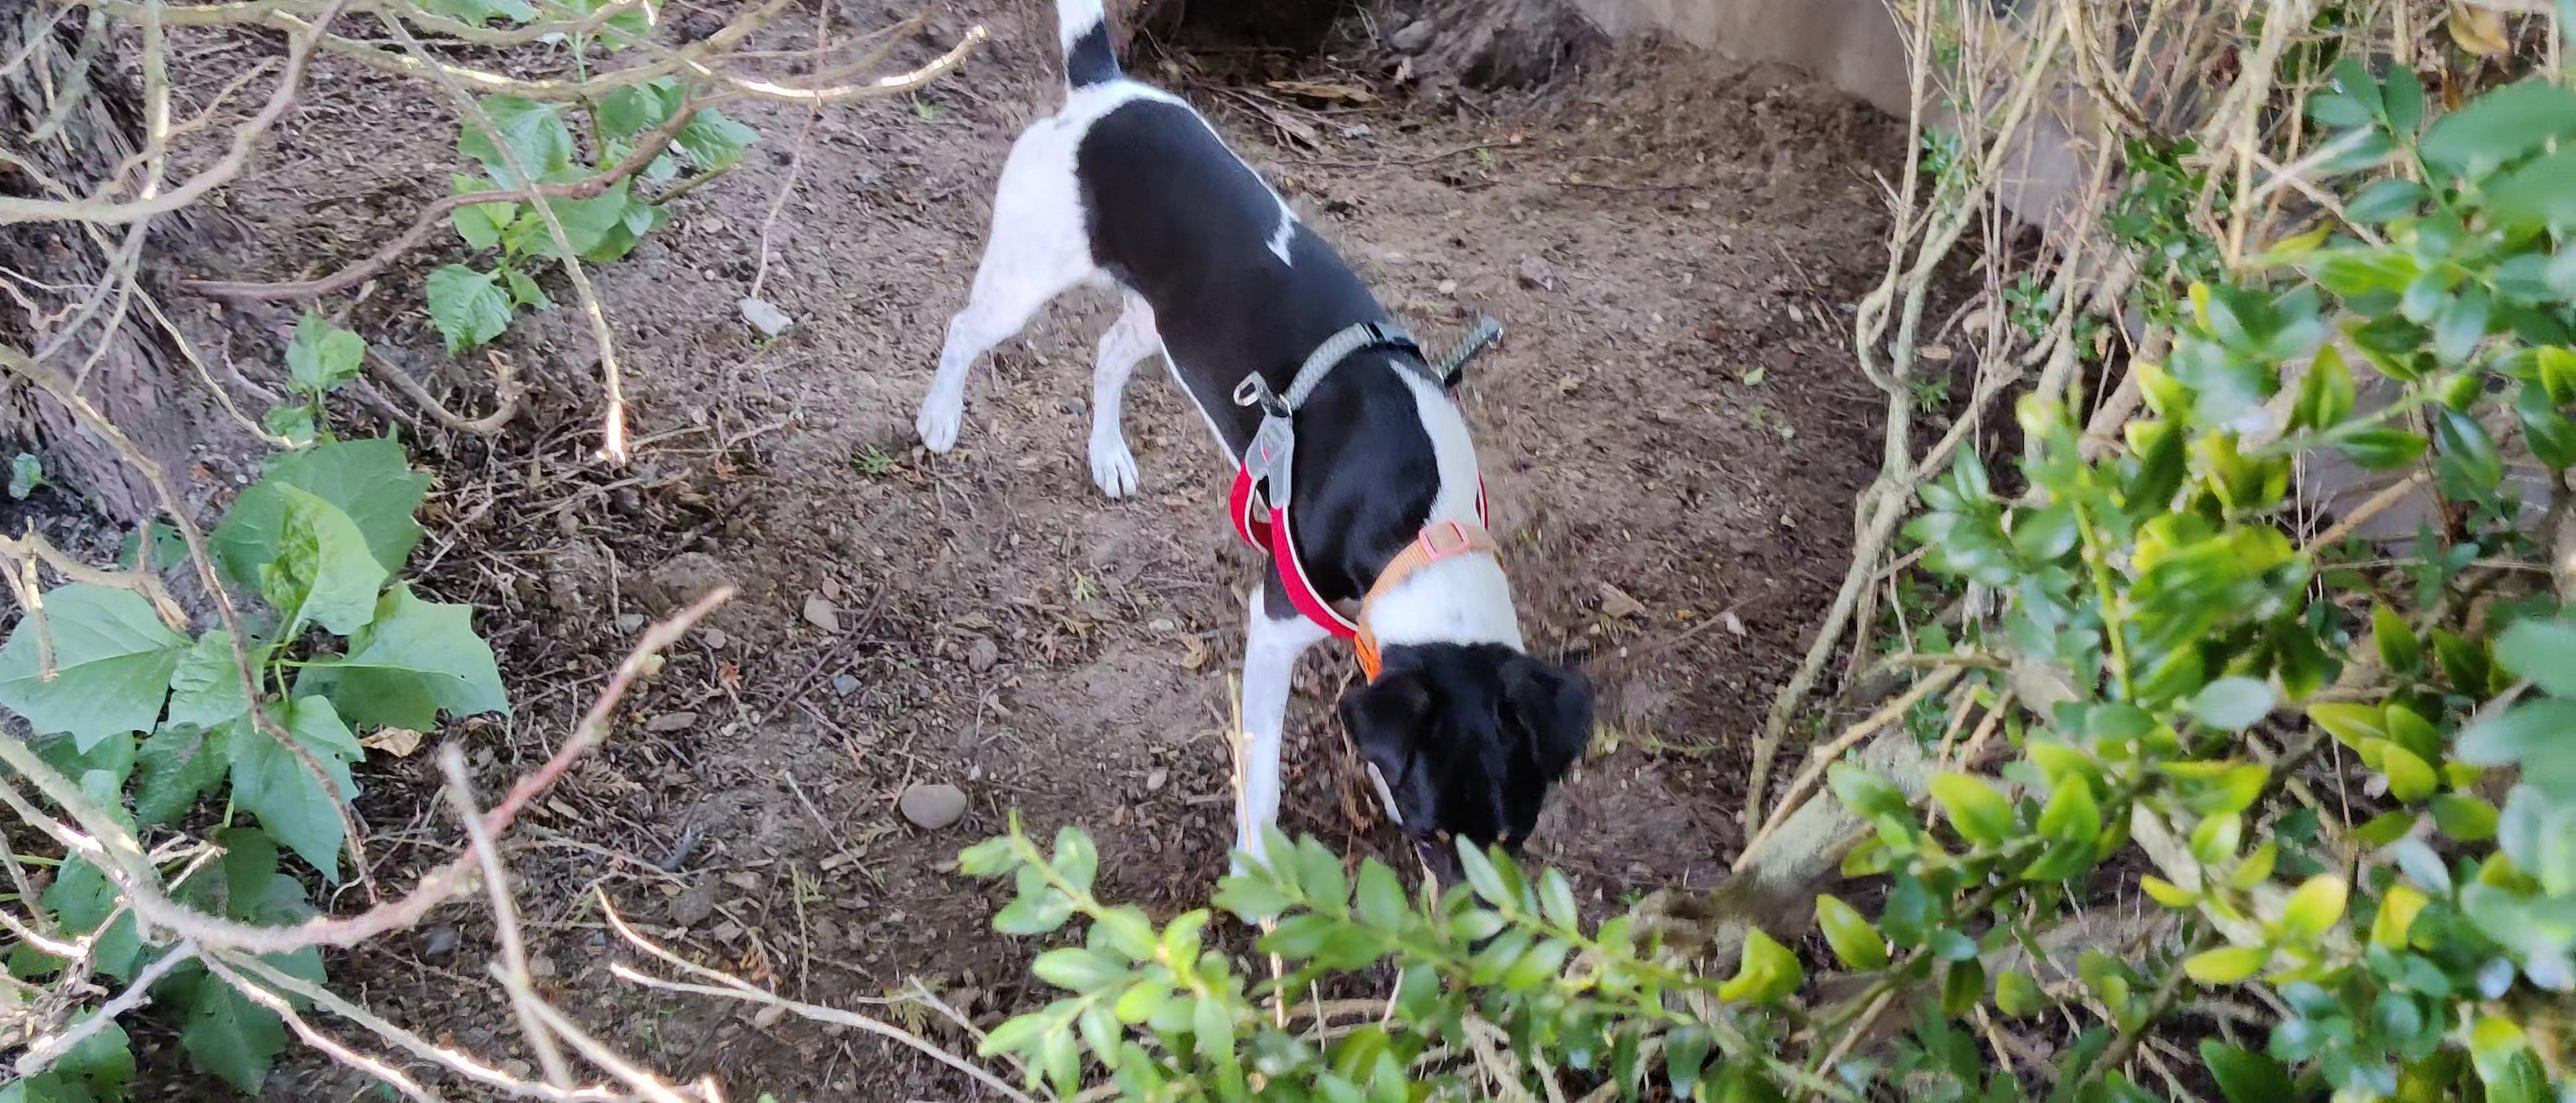Dog: (894, 0, 1607, 942)
